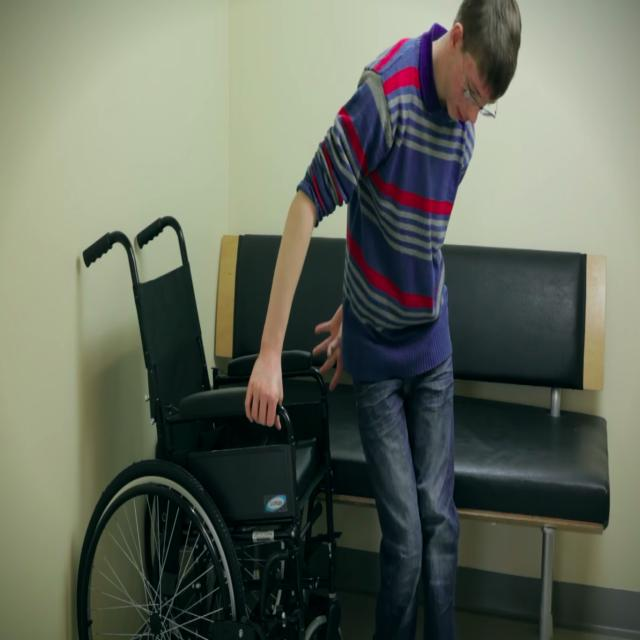wheelchairs: (84, 206, 347, 640)
